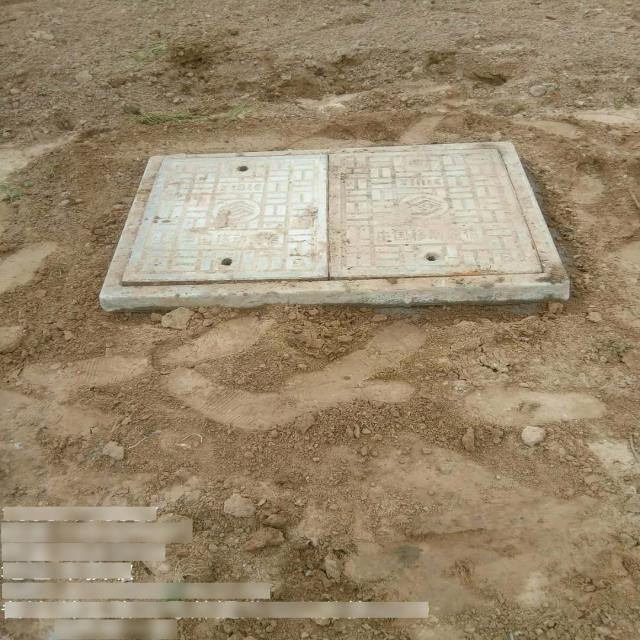Good: (100, 141, 570, 292)
